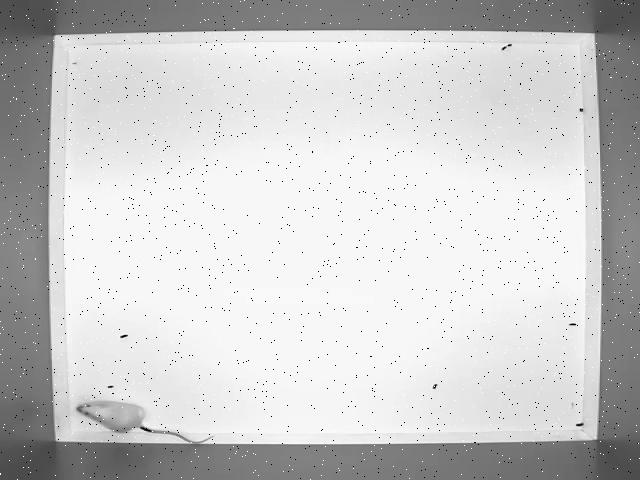Tikus: (72, 395, 218, 447)
